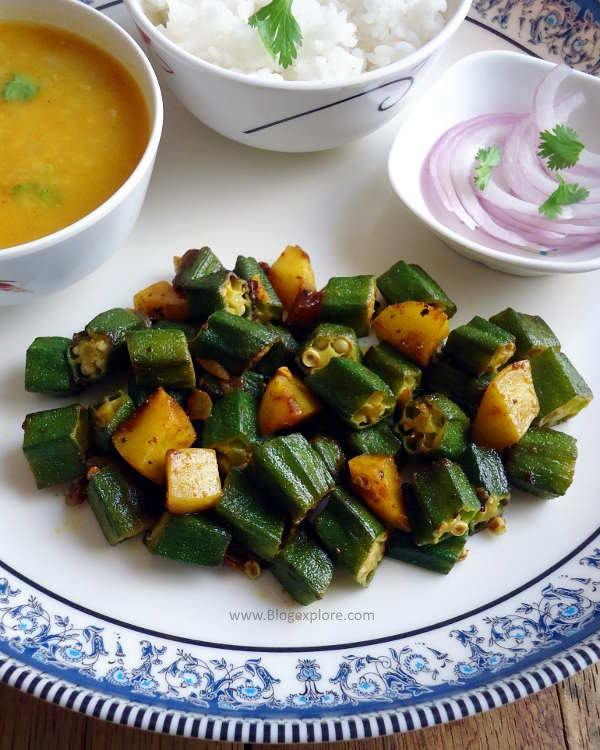bhindi: (59, 273, 590, 608)
daal: (0, 0, 153, 245)
rice: (189, 0, 484, 101)
